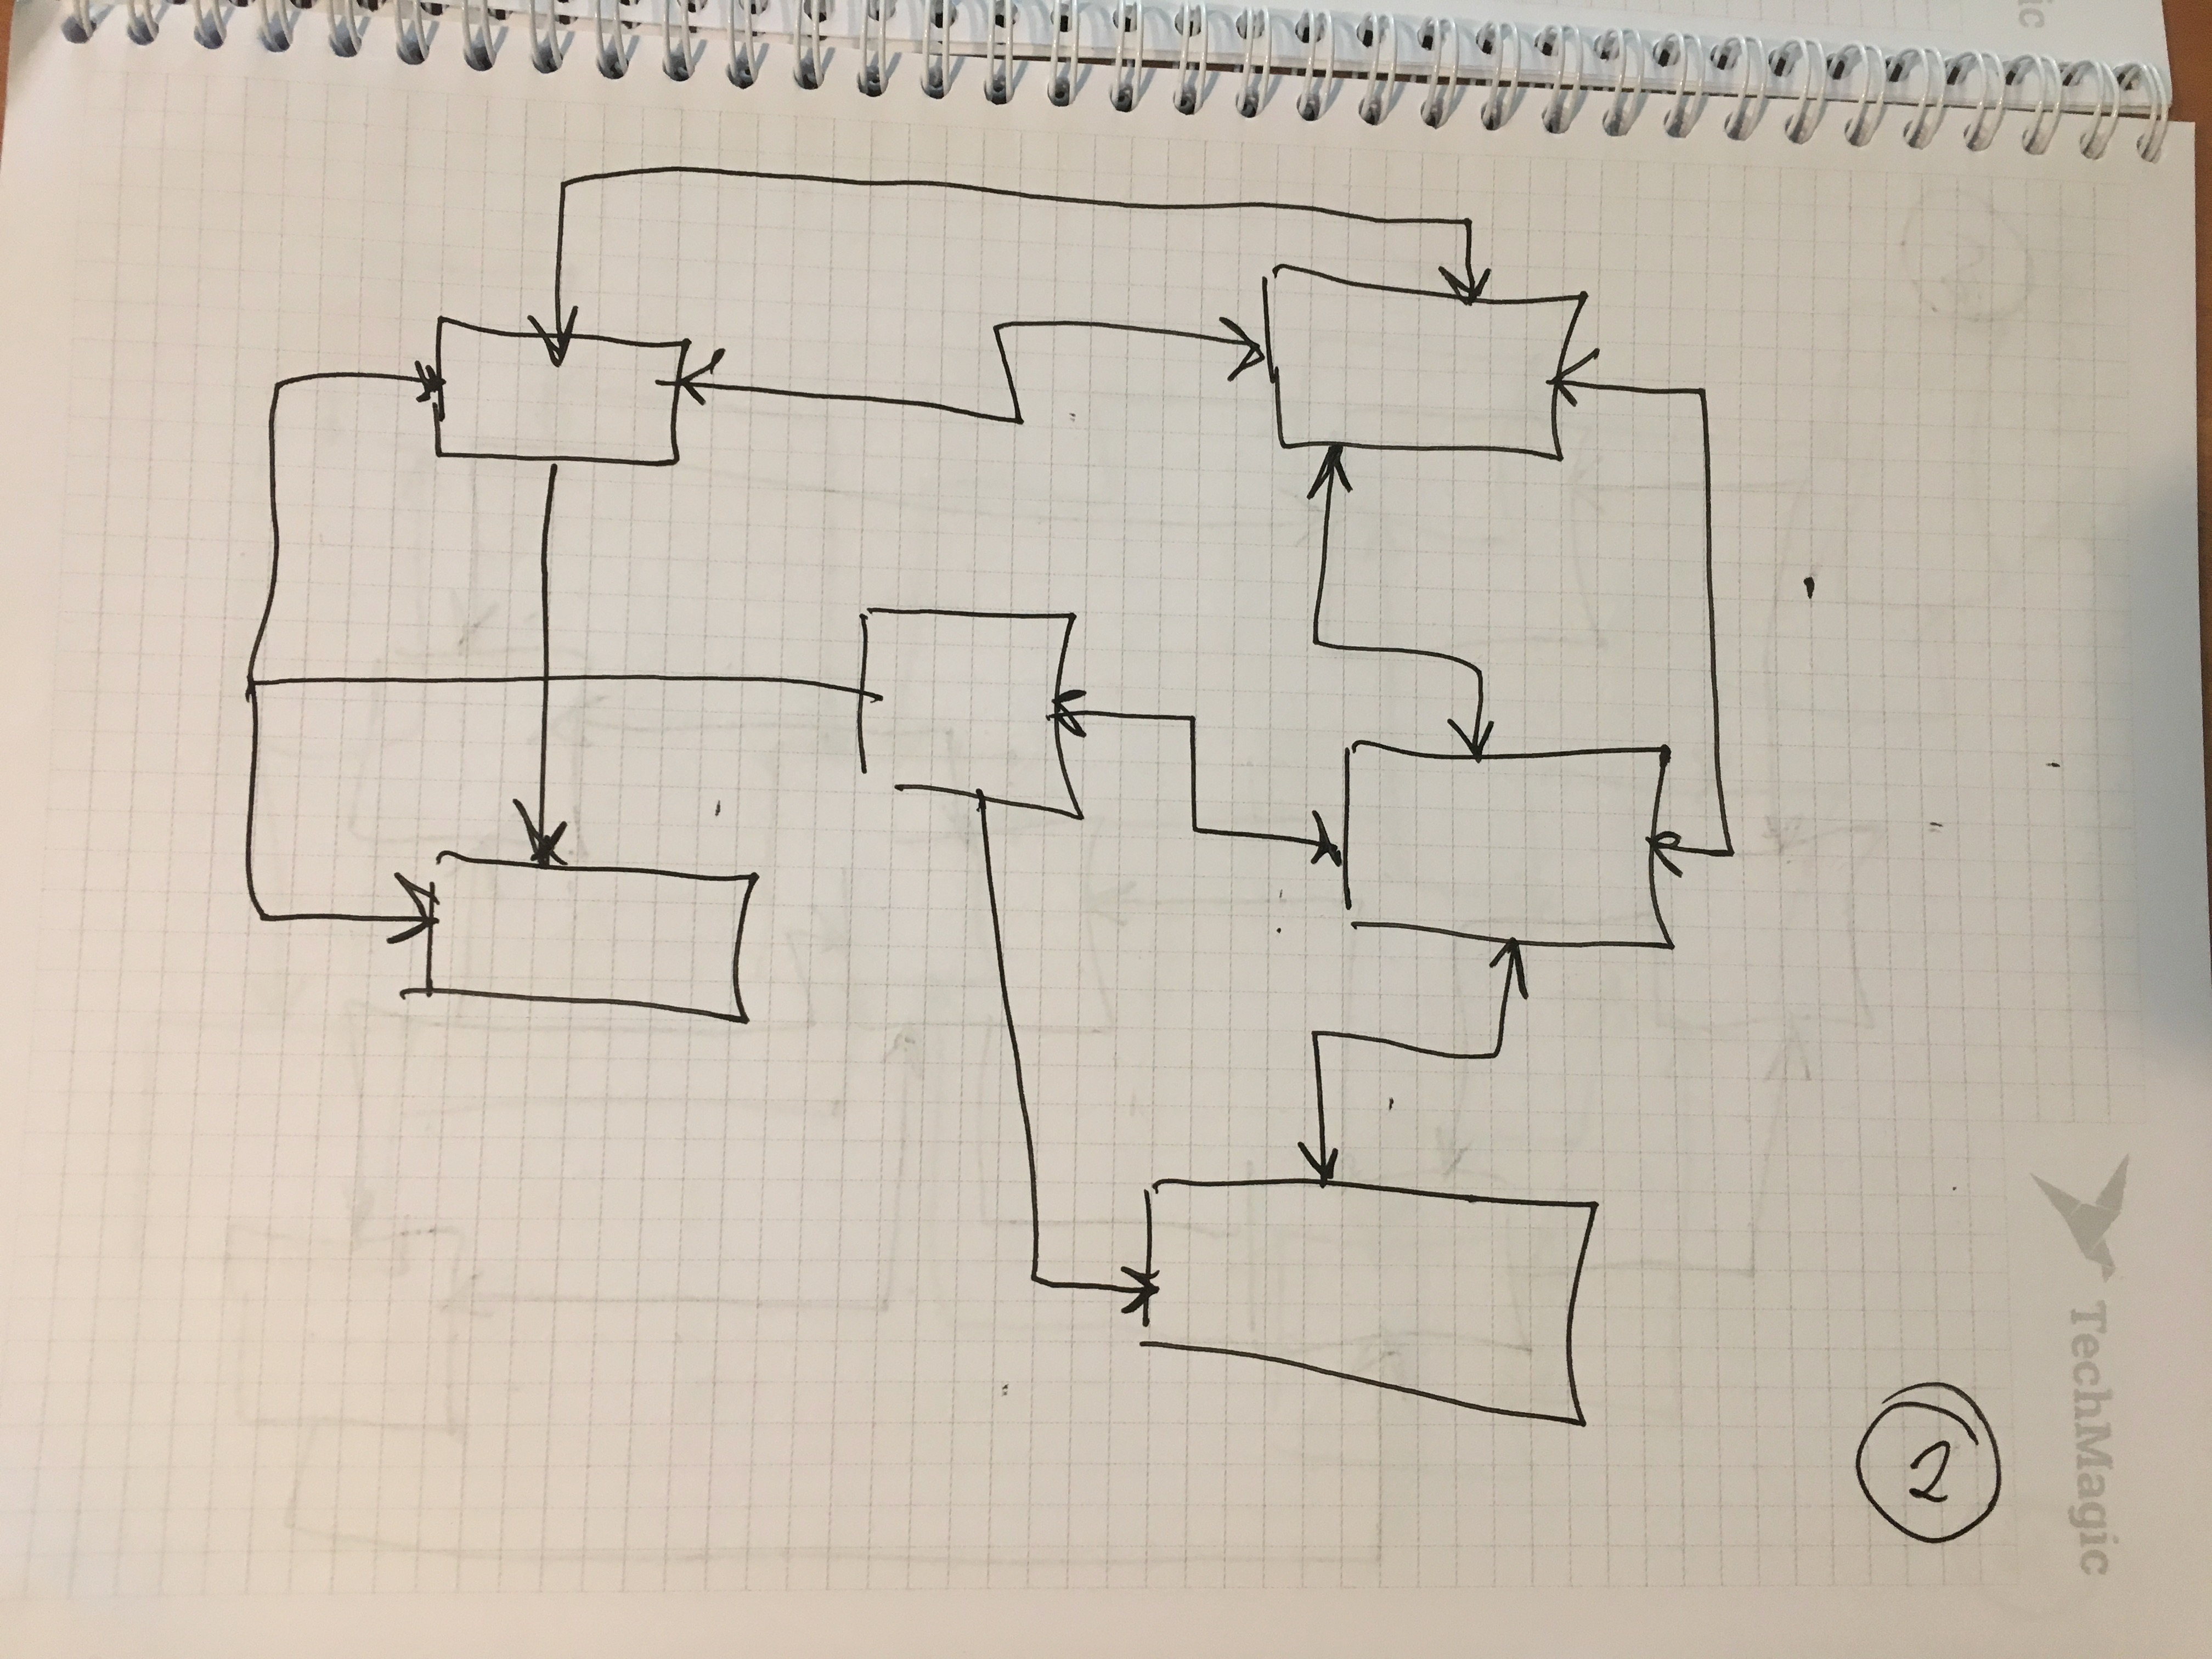arrow: (1258, 791, 1378, 887), (1172, 305, 1296, 392), (1432, 680, 1519, 786), (496, 802, 582, 896), (1296, 430, 1366, 542), (1287, 1101, 1360, 1206), (1540, 349, 1644, 420), (1634, 807, 1719, 894), (1028, 685, 1132, 748), (1482, 913, 1534, 1033), (1085, 1263, 1181, 1328), (514, 298, 592, 375), (374, 880, 458, 951), (657, 359, 754, 418), (1435, 240, 1500, 322), (390, 359, 449, 413)
